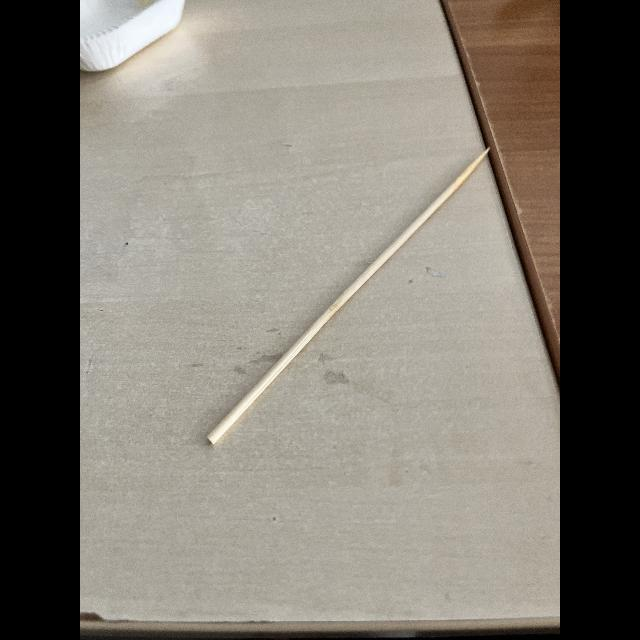stick: (193, 116, 515, 468)
